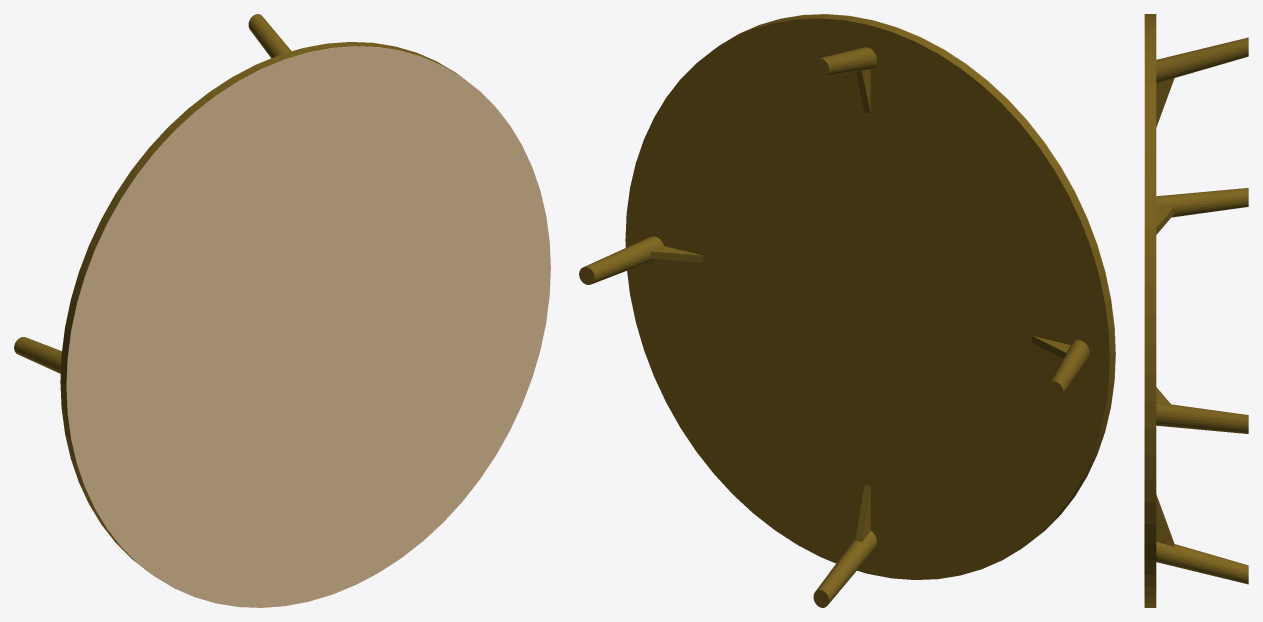
The model's file is tinker.obj.
The picture shows the model from 3 angles, left to right: view 1: azimuth 30°, elevation 25°; view 2: azimuth 150°, elevation 25°; view 3: azimuth 270°, elevation 25°; orthographic projection.
Visible parts, largest first — view 1: group_0_14860437, group_0_8020250; view 2: group_0_8020250; view 3: group_0_8020250, group_0_14860437.
Boxes of the visible parts, box(x1,y1,x2,y2) form: group_0_14860437: box(66, 46, 550, 607); group_0_8020250: box(14, 14, 459, 574); group_0_8020250: box(579, 14, 1115, 607); group_0_8020250: box(1145, 14, 1248, 607); group_0_14860437: box(1144, 14, 1144, 607).
Size of the model in its own units: 48 by 52 by 9.
